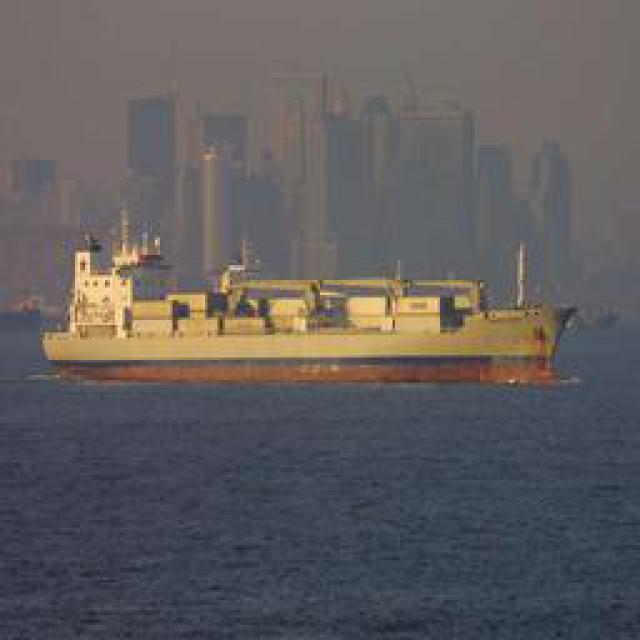Ship: (45, 282, 573, 385)
